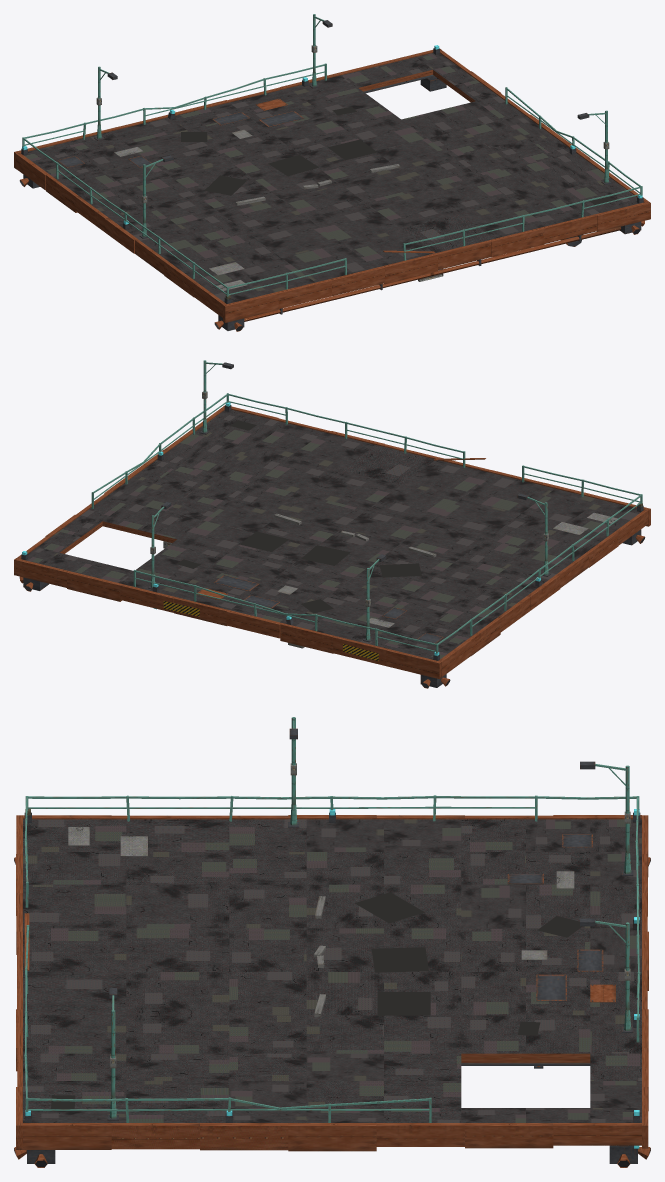
The model's file is Platform.fbx.
3 renders of one model, top to bottom at view 1: azimuth 30°, elevation 25°; view 2: azimuth 150°, elevation 25°; view 3: azimuth 270°, elevation 25°, orthographic. The views are drawn at different scales.
Visible parts, largest first — view 1: Platform; view 2: Platform; view 3: Platform.
Part boxes in pixels (x1,y1,x2,y2): Platform: [14, 14, 650, 331]; Platform: [14, 360, 650, 688]; Platform: [14, 717, 650, 1167].
Size of the model in its own units: 28.71 by 11.47 by 24.71.
